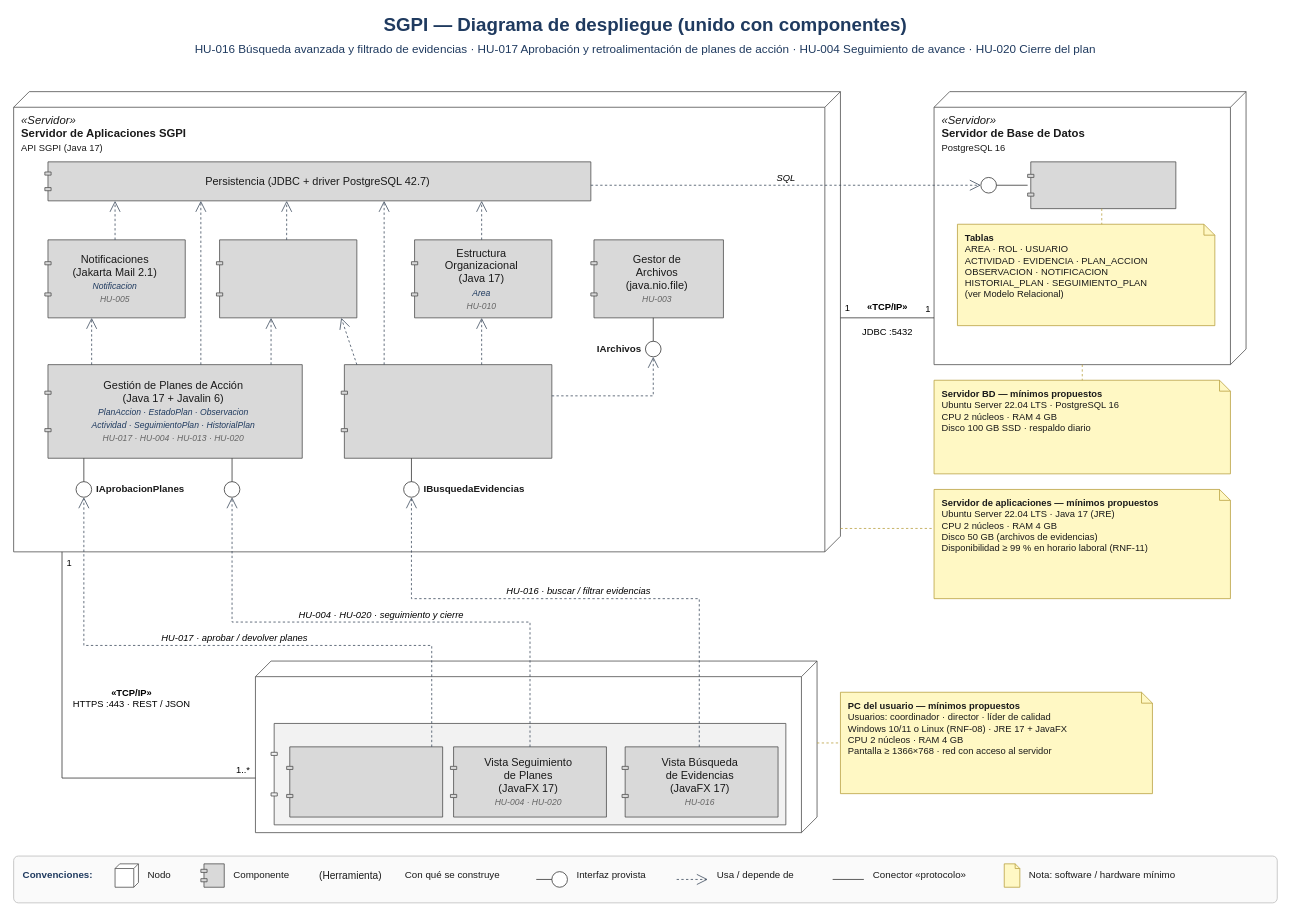
Image size: 1291x916. Some labels were removed from this diagram. The shapes that lost their labels are listed below. From the top down, each one's box as (x1, y1, x2, y2) in pixels, then its label:
(980, 177, 996, 193): JDBC
(1027, 161, 1176, 209): BD SGPI (PostgreSQL 16)
(216, 239, 357, 318): Seguridad y Roles (jBCrypt 0.4) Usuario · Rol HU-006
(340, 364, 552, 458): Repositorio Documental (Java 17 + Javalin 6) Evidencia · Busqueda HU-016
(223, 481, 240, 497): ISeguimientoPlanes
(255, 660, 817, 833): «Cliente» PC del usuario
(286, 746, 443, 817): Vista Revisión de Planes (JavaFX 17) HU-017
(270, 723, 786, 825): Cliente SGPI (JavaFX 17)
